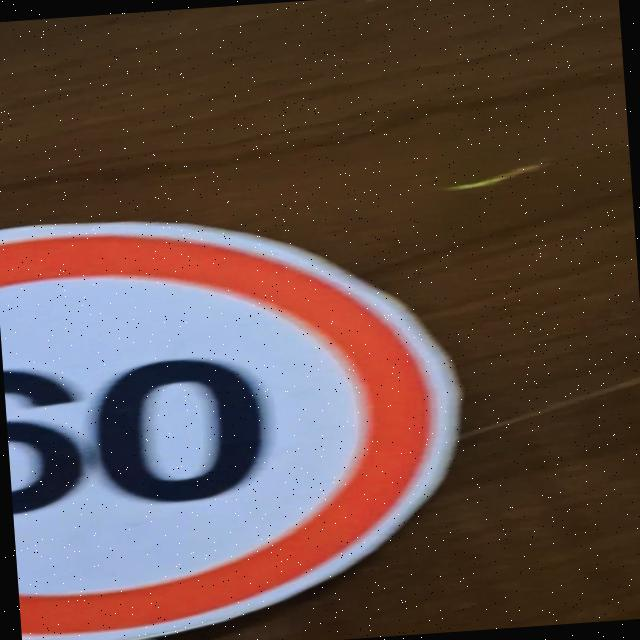Speed60: (0, 187, 475, 640)
